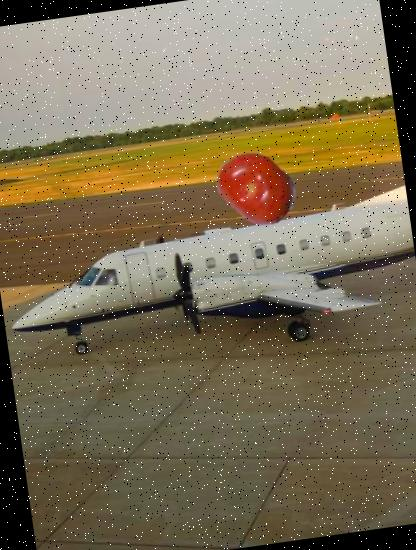Cherry: (212, 142, 302, 234)
